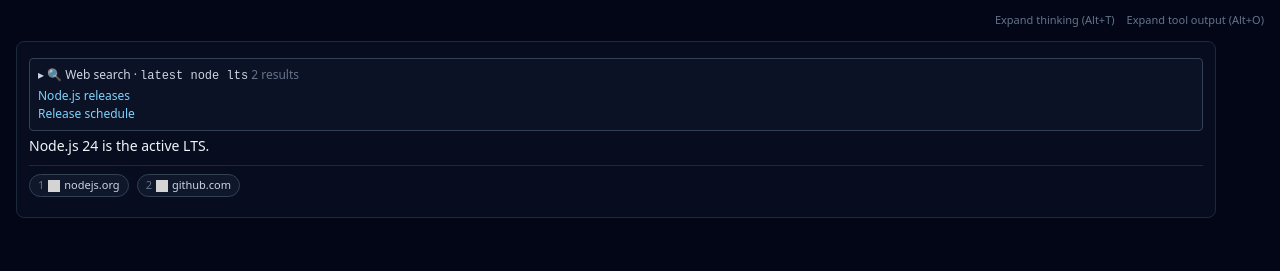
web tool cards › [07-chat-mode#6.3] shows the query and result links, collapsed once complete
expect the text "latest node lts" is shown: met, box [140,68,248,82]
expect the text "1. **Node.js releases**" is not shown: met
Click the button "▸ 🔍 Web search · latest node lts 2 results": (168, 75) [38,66,299,84]
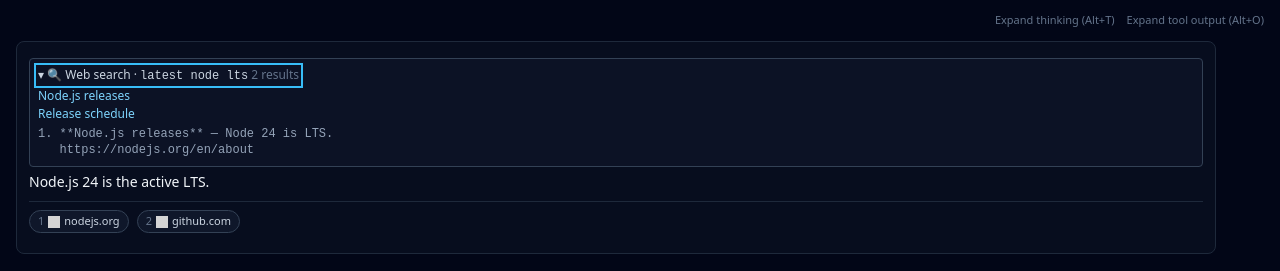
expect the text "1. **Node.js releases**" is shown: met, box [38,126,333,156]
